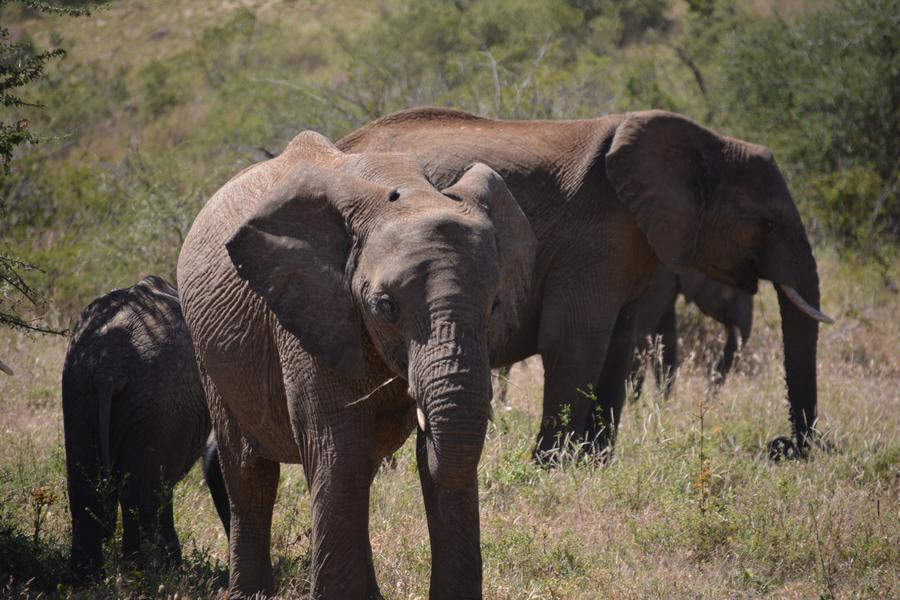elephant: (336, 103, 820, 428), (199, 135, 484, 574), (76, 273, 252, 543)
